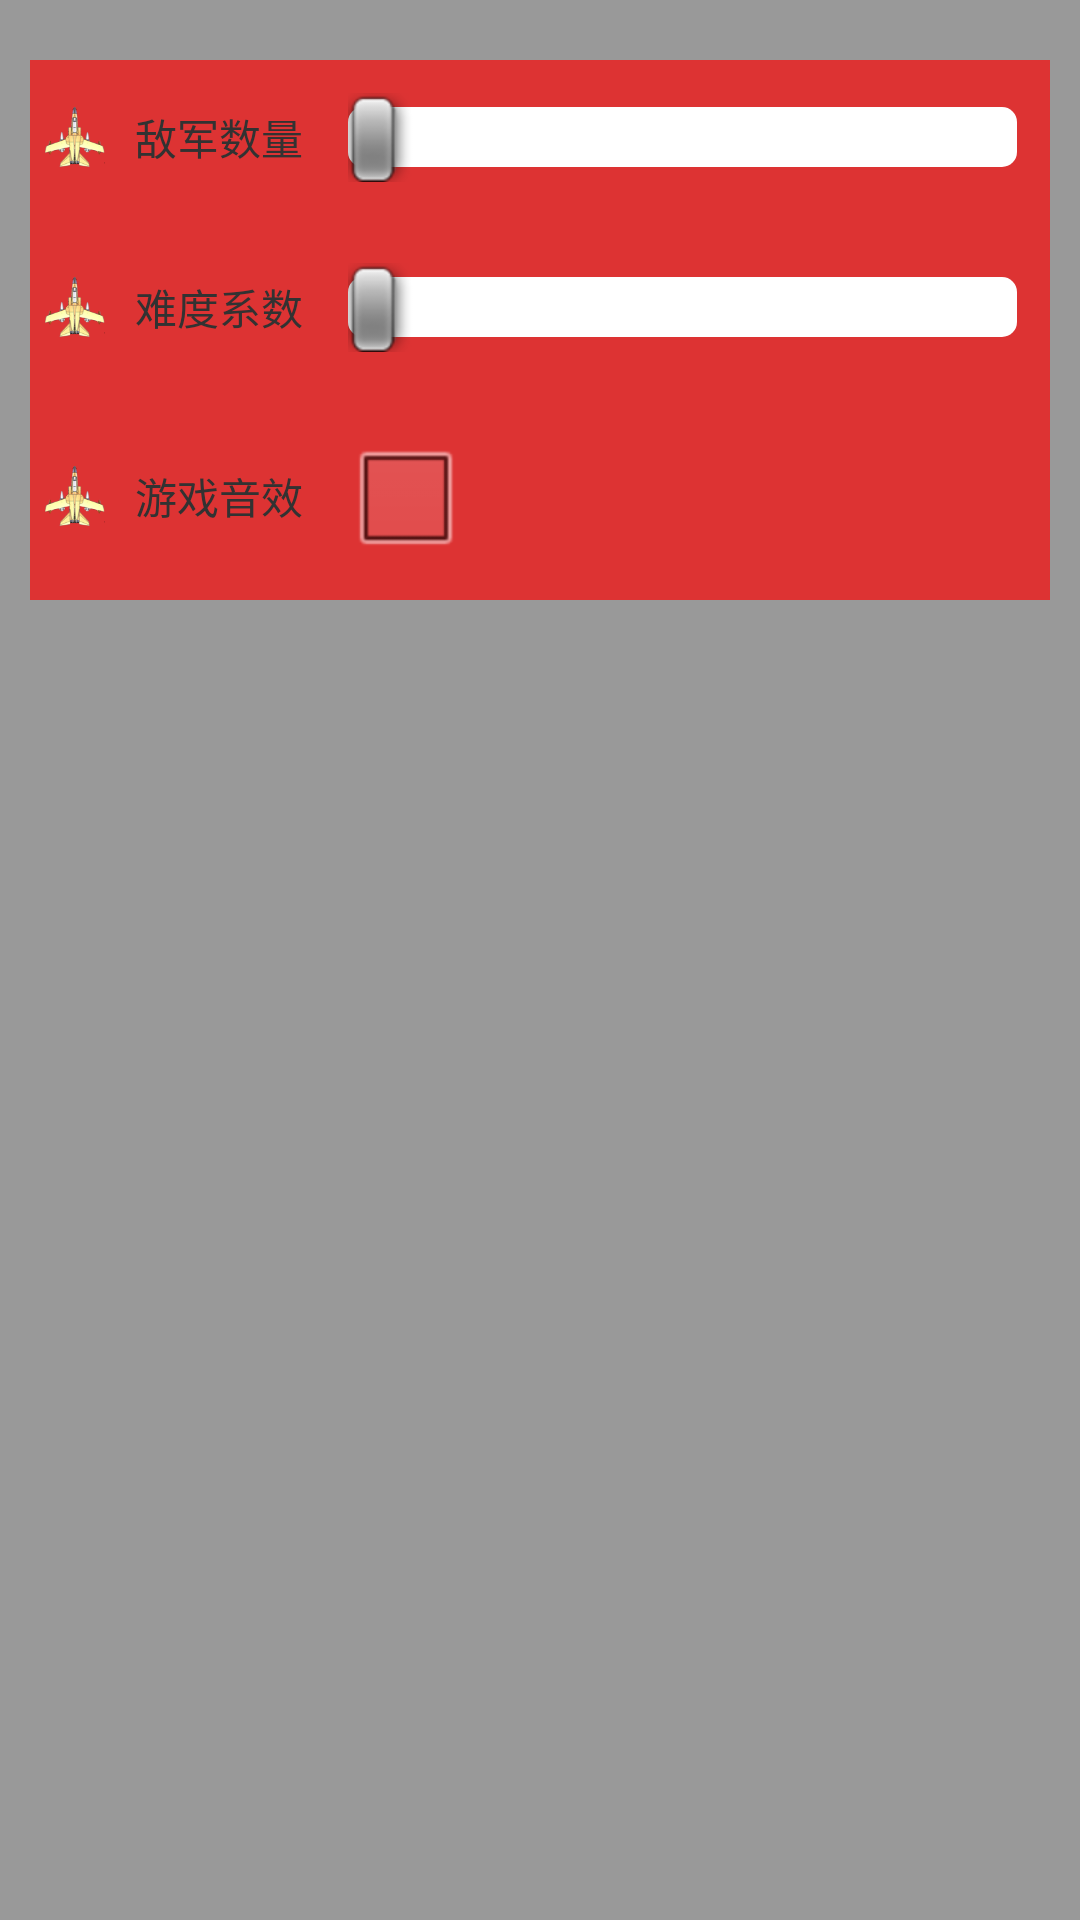

Screen size 1080 × 1920. Icon name, then its box in pixels as (x1, y1, x2, y2):
plane: (45, 107, 105, 167), (45, 277, 105, 337), (45, 466, 105, 526)
